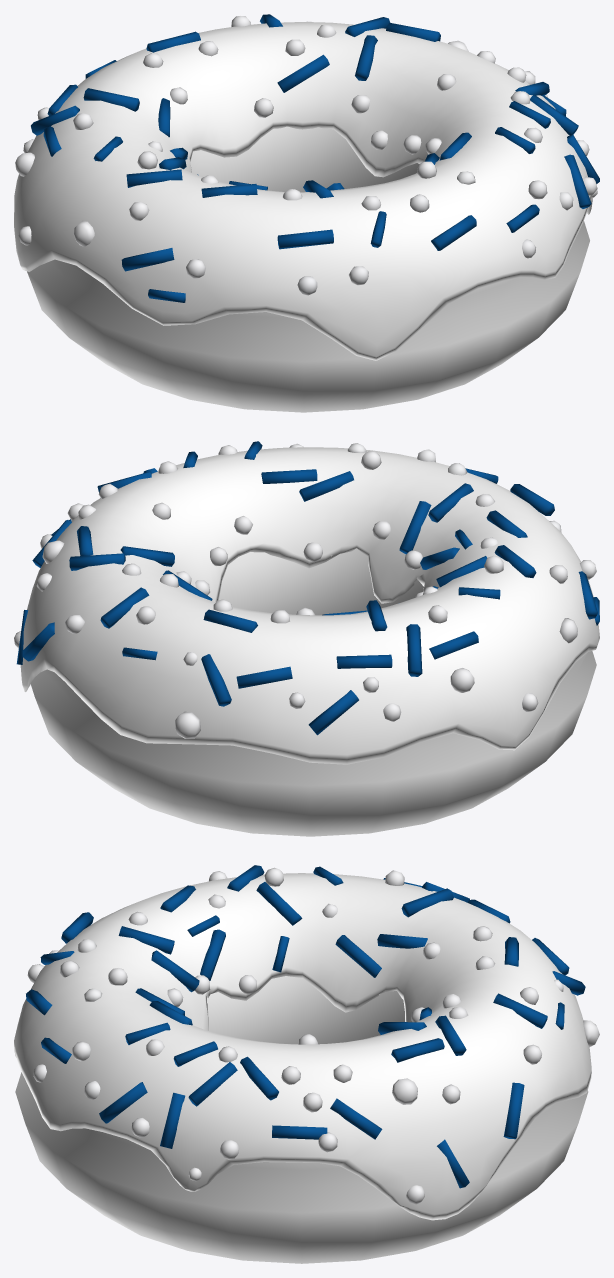
The model's file is Donut_03.fbx.
The picture shows the model from 3 angles, top to bottom: view 1: azimuth 30°, elevation 25°; view 2: azimuth 150°, elevation 25°; view 3: azimuth 270°, elevation 25°; orthographic projection.
Visible parts, largest first — view 1: Donut_03; view 2: Donut_03; view 3: Donut_03.
Part boxes in pixels (x1,y1,x2,y2): Donut_03: (14,14,599,412); Donut_03: (14,441,599,836); Donut_03: (14,865,599,1263).
Size of the model in its own units: 100 by 99.4 by 40.37.
